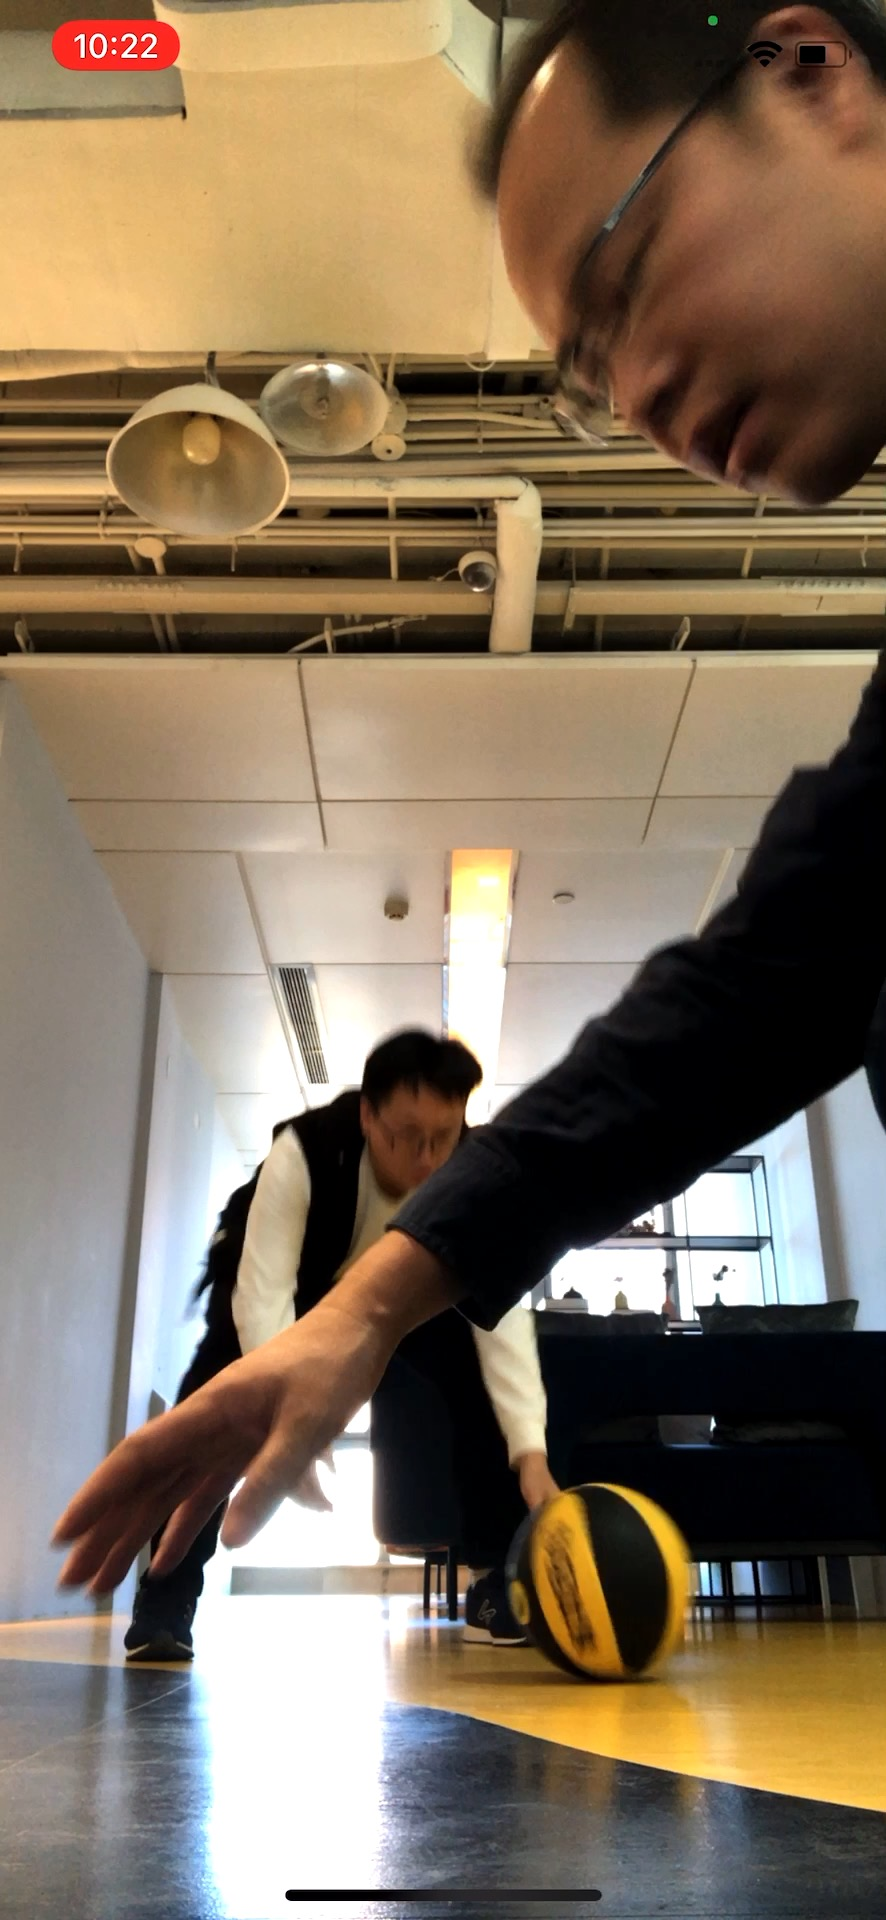ball: (510, 1480, 698, 1680)
